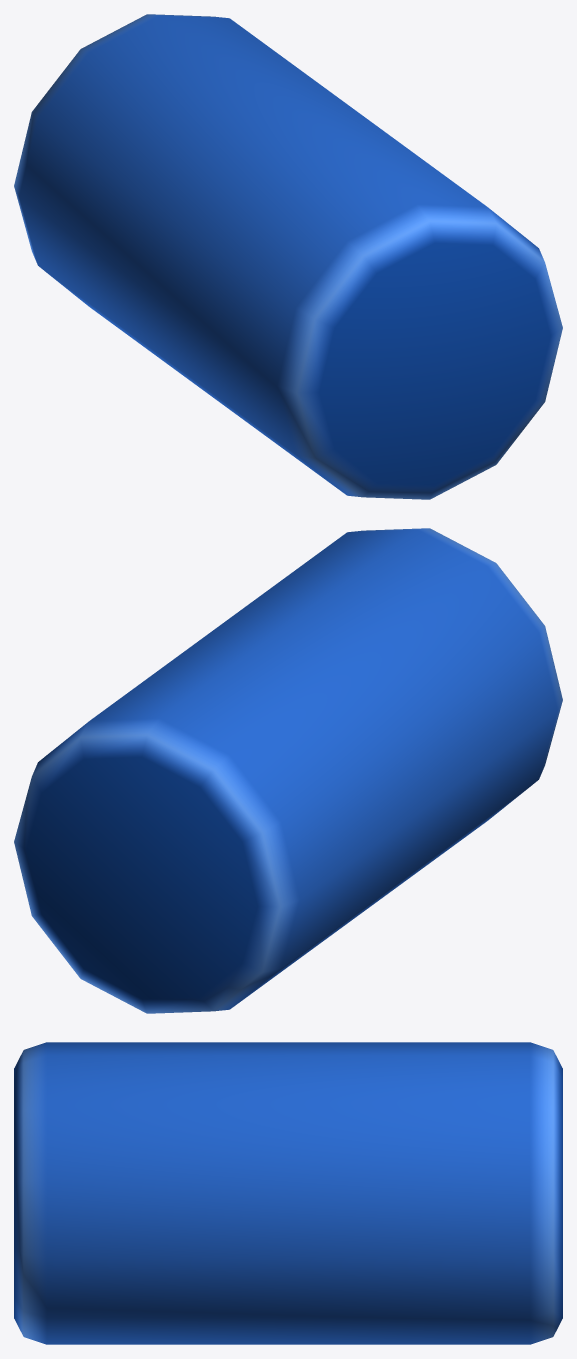
Rendered from pipeshell_001.fbx.
3 views of the same model, one above another, from view 1: azimuth 30°, elevation 25°; view 2: azimuth 150°, elevation 25°; view 3: azimuth 270°, elevation 25° (orthographic). The views are drawn at different scales.
Parts seen in each view (by area): view 1: pipeshell_001; view 2: pipeshell_001; view 3: pipeshell_001.
Boxes of the visible parts, x1,y1,x2,y2 form: pipeshell_001: (14, 14, 562, 499); pipeshell_001: (14, 528, 562, 1013); pipeshell_001: (14, 1042, 562, 1344).
Bounding box in the file's own units: 221 × 400 × 221.
